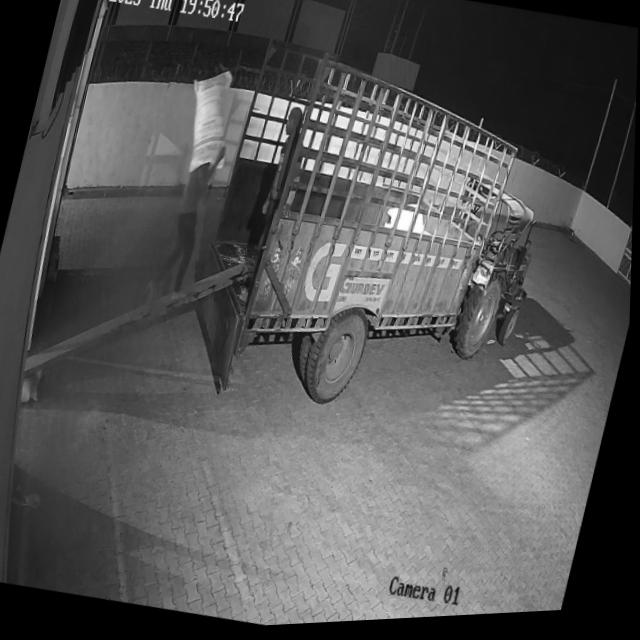sack: (174, 66, 245, 183)
